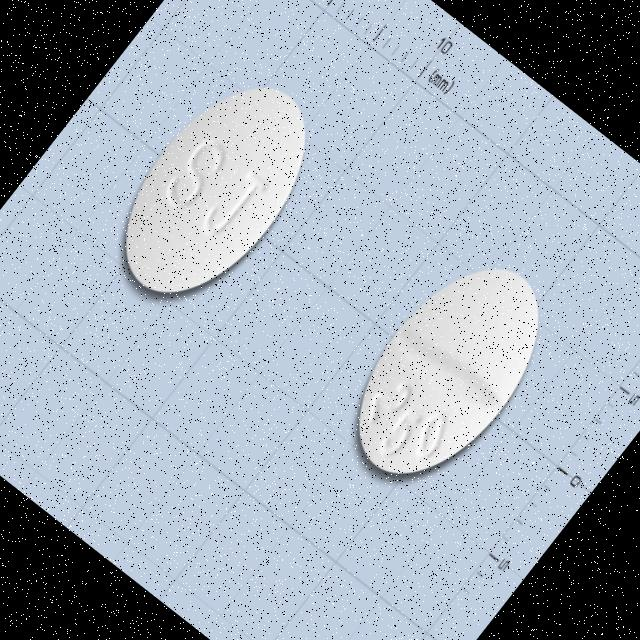Quinos Tab: (88, 55, 342, 328), (324, 237, 576, 508)
